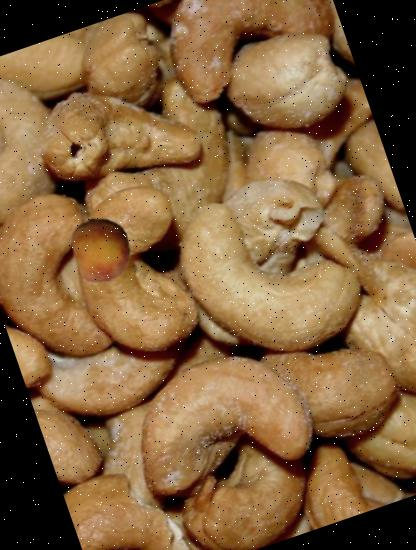Peach: (61, 208, 144, 291)
